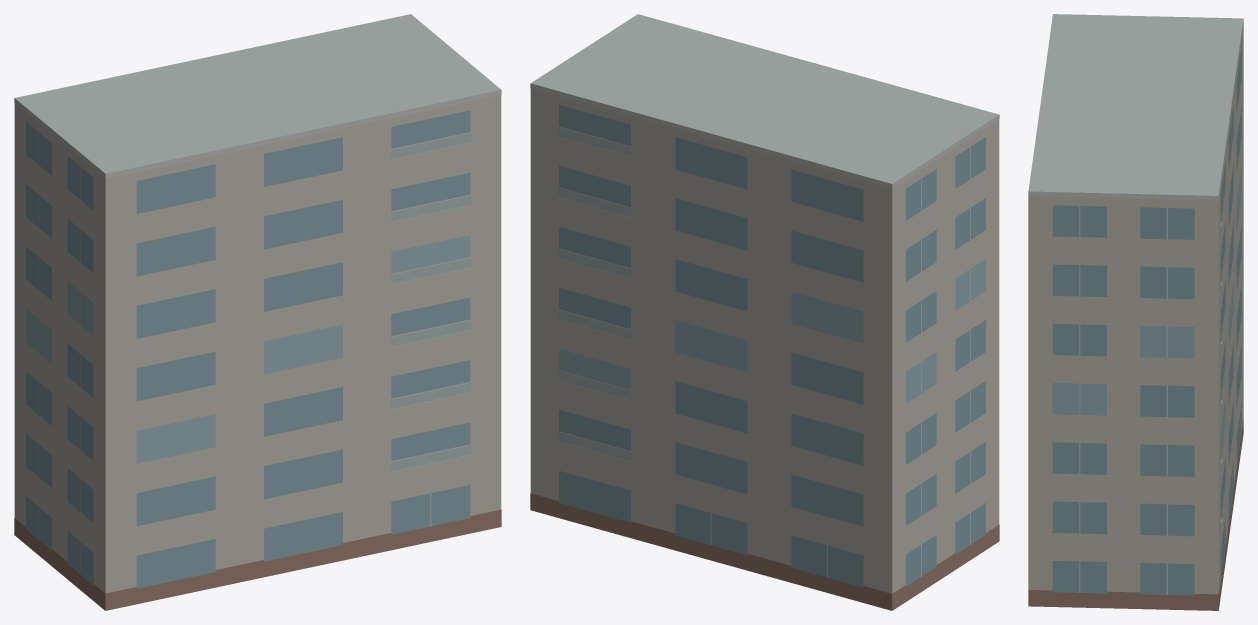
The model's file is survey-upis-32897727.glb.
3 renders of one model, left to right at view 1: azimuth 30°, elevation 25°; view 2: azimuth 150°, elevation 25°; view 3: azimuth 270°, elevation 25°, orthographic. The views are drawn at different scales.
Visible parts, largest first — view 1: survey-upis-32897727.tmp; view 2: survey-upis-32897727.tmp; view 3: survey-upis-32897727.tmp.
Part boxes in pixels (bbox=[...]): survey-upis-32897727.tmp: bbox=[14, 14, 501, 610]; survey-upis-32897727.tmp: bbox=[530, 14, 999, 610]; survey-upis-32897727.tmp: bbox=[1028, 14, 1243, 610].
Bounding box in the file's own units: 20.09 × 21.35 × 10.05.
